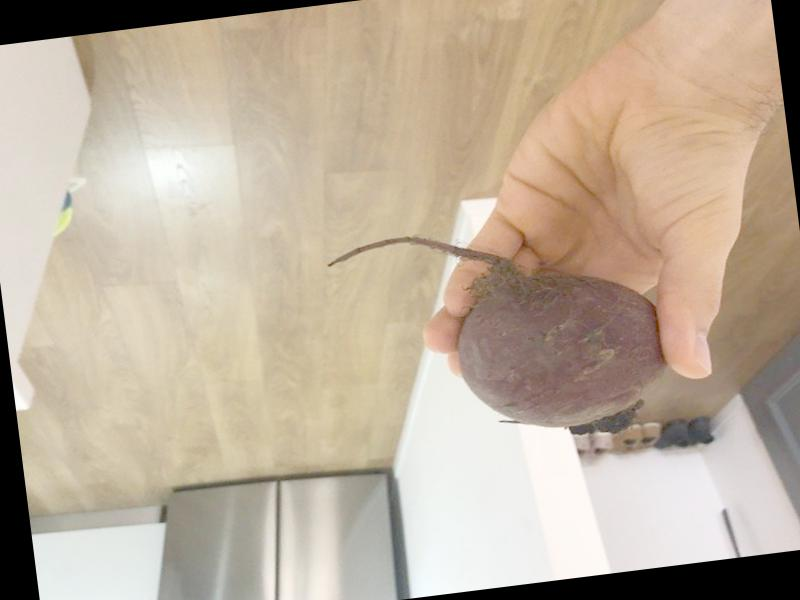Beet: (325, 206, 673, 463)
